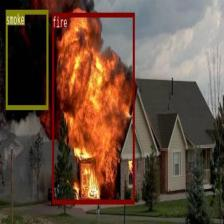fire: (52, 12, 134, 204)
smoke: (6, 9, 48, 109)
